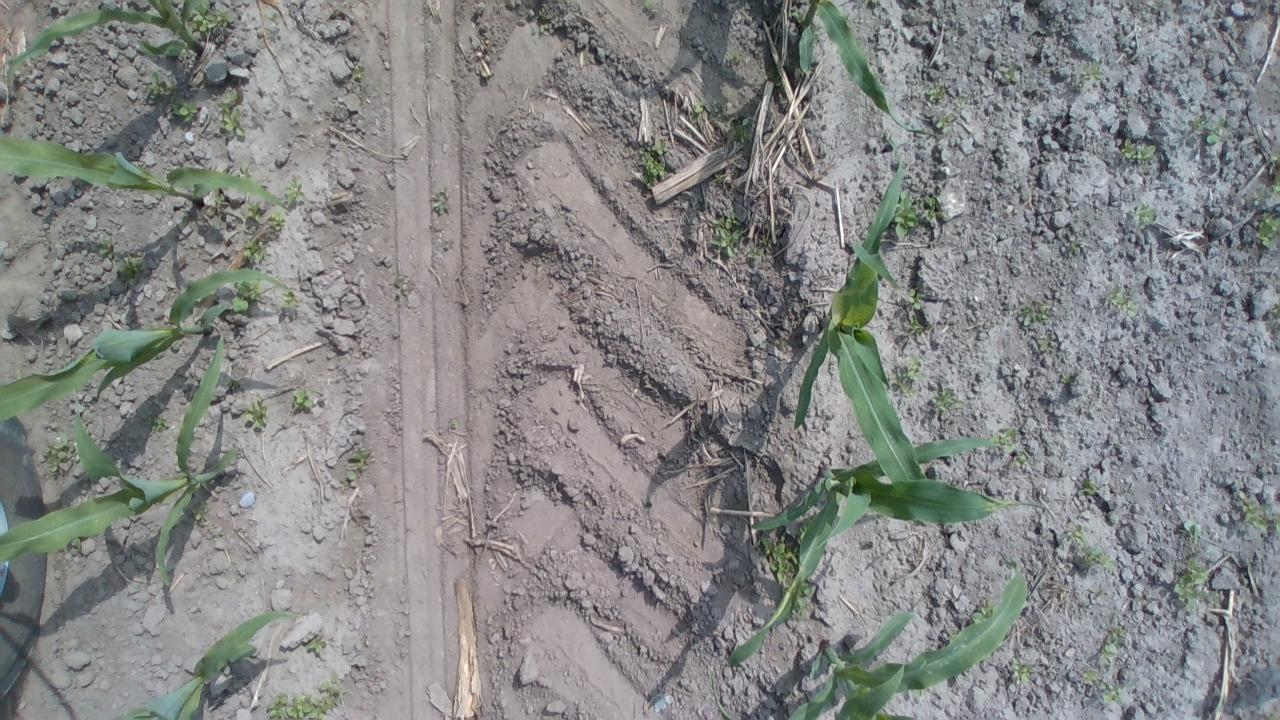Maize: (728, 436, 1050, 664), (0, 335, 238, 586), (712, 551, 1026, 720), (799, 133, 930, 485), (0, 268, 289, 422), (0, 134, 292, 214), (107, 607, 306, 720), (798, 0, 930, 134), (6, 0, 204, 88)
Weeds: (268, 677, 345, 720), (1062, 521, 1114, 569), (1172, 558, 1212, 612), (758, 528, 798, 582), (186, 0, 234, 35), (710, 213, 743, 260), (638, 139, 668, 190), (42, 434, 78, 476), (890, 190, 919, 238), (218, 90, 247, 137), (890, 358, 924, 397), (1236, 490, 1268, 530), (167, 84, 199, 122), (780, 578, 812, 616), (231, 278, 262, 312), (1106, 285, 1138, 317), (920, 185, 946, 222), (1101, 628, 1127, 664), (931, 386, 964, 414), (1020, 300, 1053, 326), (1256, 213, 1280, 248), (116, 254, 142, 285), (1120, 138, 1156, 160), (1078, 60, 1103, 90), (989, 428, 1017, 454), (345, 450, 368, 480), (726, 116, 750, 144), (245, 396, 266, 428), (969, 599, 995, 624), (143, 72, 166, 100), (242, 238, 266, 264), (1132, 202, 1156, 226), (284, 180, 306, 206), (1100, 681, 1124, 704), (1012, 658, 1032, 684), (429, 192, 452, 213), (1178, 522, 1202, 541), (935, 113, 957, 133), (237, 162, 257, 184), (1206, 120, 1224, 144), (926, 81, 946, 102), (292, 389, 312, 410), (906, 288, 925, 310), (998, 63, 1019, 82), (190, 499, 209, 520), (280, 290, 300, 308), (1077, 479, 1098, 496), (146, 414, 168, 430), (906, 314, 922, 336), (245, 202, 262, 222), (798, 518, 812, 541), (268, 210, 284, 230), (98, 238, 114, 258), (1192, 114, 1208, 134), (308, 638, 326, 654), (691, 102, 704, 124), (1082, 668, 1099, 684), (746, 246, 764, 261), (1269, 172, 1280, 196), (710, 100, 724, 117), (538, 11, 548, 34), (790, 6, 804, 22), (1038, 338, 1052, 352), (643, 0, 658, 13), (1252, 192, 1265, 206), (1014, 452, 1027, 466), (1270, 147, 1280, 162), (956, 96, 968, 108), (352, 66, 362, 80), (1068, 240, 1078, 253), (1272, 300, 1280, 316), (949, 632, 960, 643), (731, 54, 743, 64), (1274, 513, 1280, 532), (181, 214, 191, 225), (74, 536, 82, 548), (914, 688, 925, 696), (227, 380, 235, 390), (1060, 375, 1070, 383), (714, 174, 721, 178)
